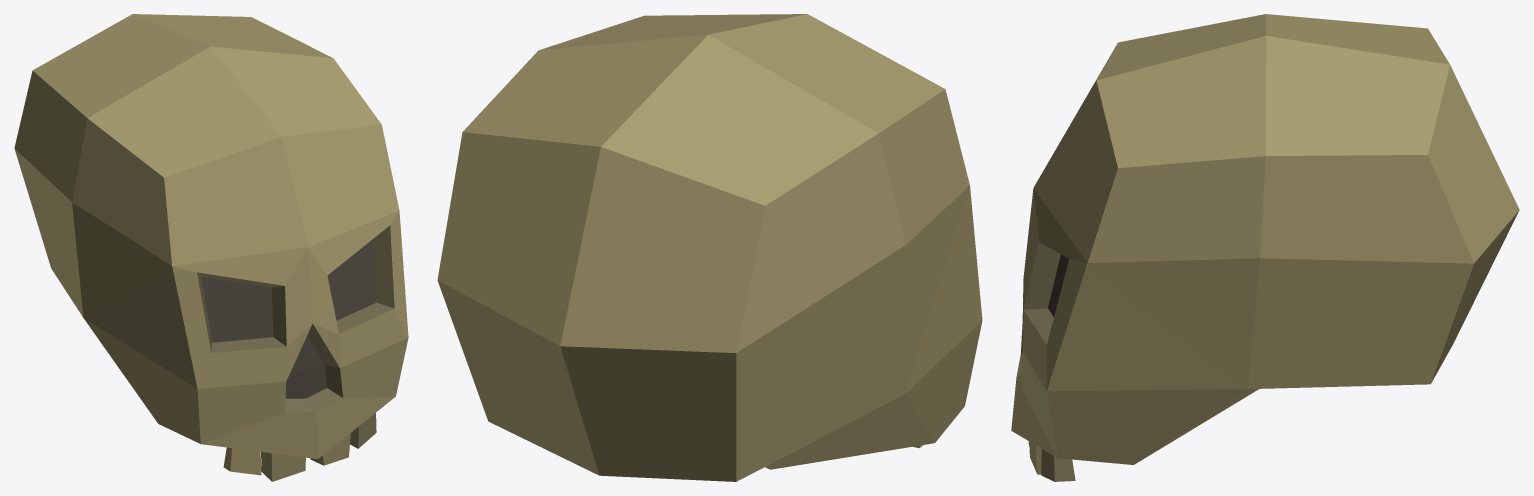
Rendered from Skull_2.fbx.
3 views of the same model, side by side, from view 1: azimuth 30°, elevation 25°; view 2: azimuth 150°, elevation 25°; view 3: azimuth 270°, elevation 25° (orthographic). The views are drawn at different scales.
Visible parts, largest first — view 1: Scull_2; view 2: Scull_2; view 3: Scull_2.
Boxes of the visible parts, left/top/right/bottom form: Scull_2: left=14, top=14, right=408, bottom=481; Scull_2: left=437, top=14, right=982, bottom=481; Scull_2: left=1011, top=14, right=1519, bottom=481.
Size of the model in its own units: 19.27 by 23.19 by 25.46.
